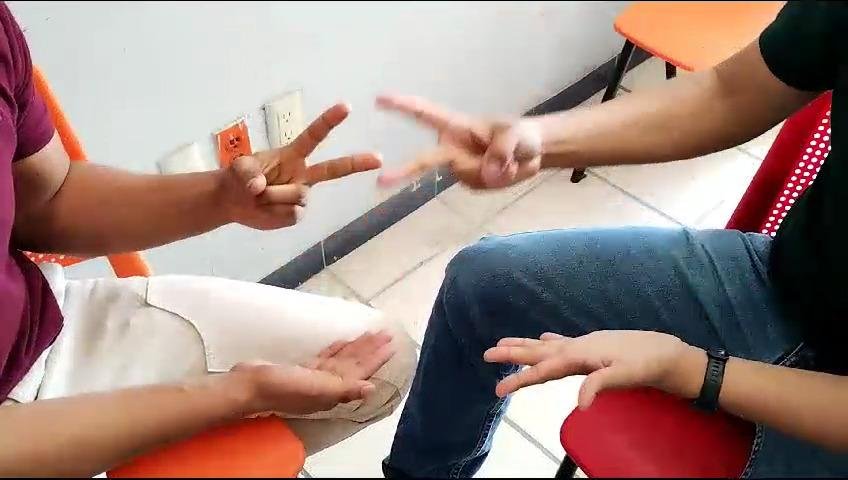Scissor: (207, 88, 392, 241), (362, 79, 556, 211)
